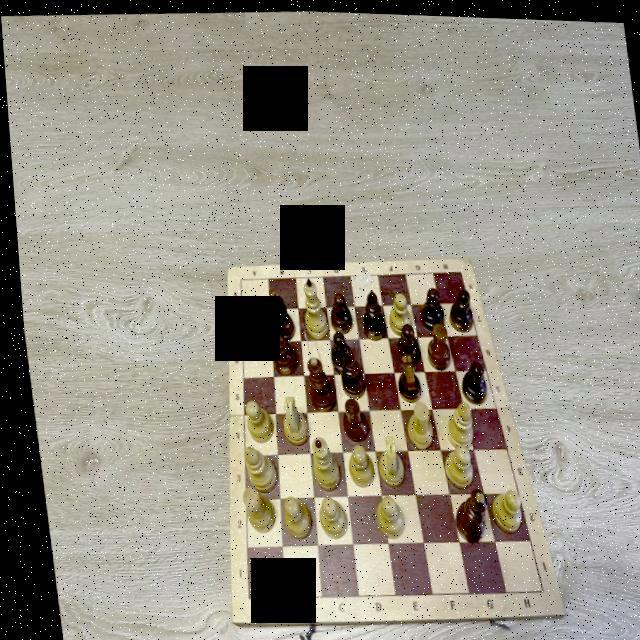chess-table-corners: (235, 591, 244, 602), (530, 583, 539, 592), (454, 265, 460, 272), (235, 274, 240, 282)
